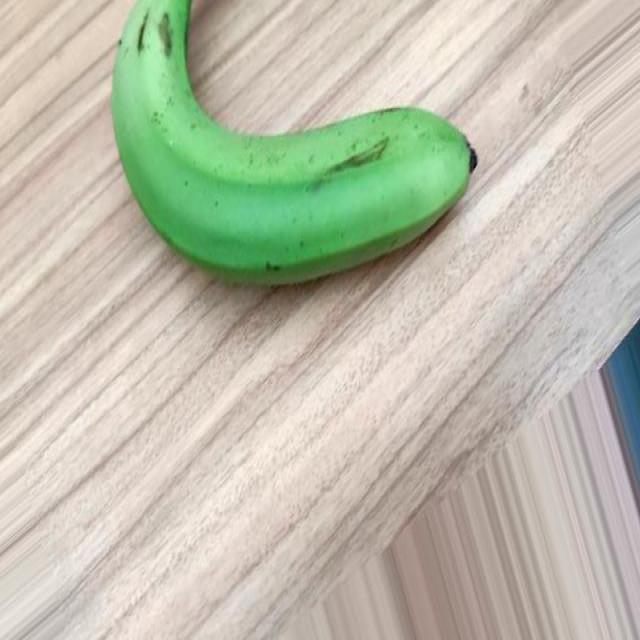Unripe: (110, 0, 478, 287)
